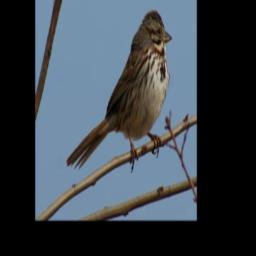Sparrow: (65, 9, 173, 172)
